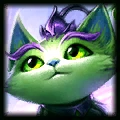Yuumi: (4, 4, 116, 116)
